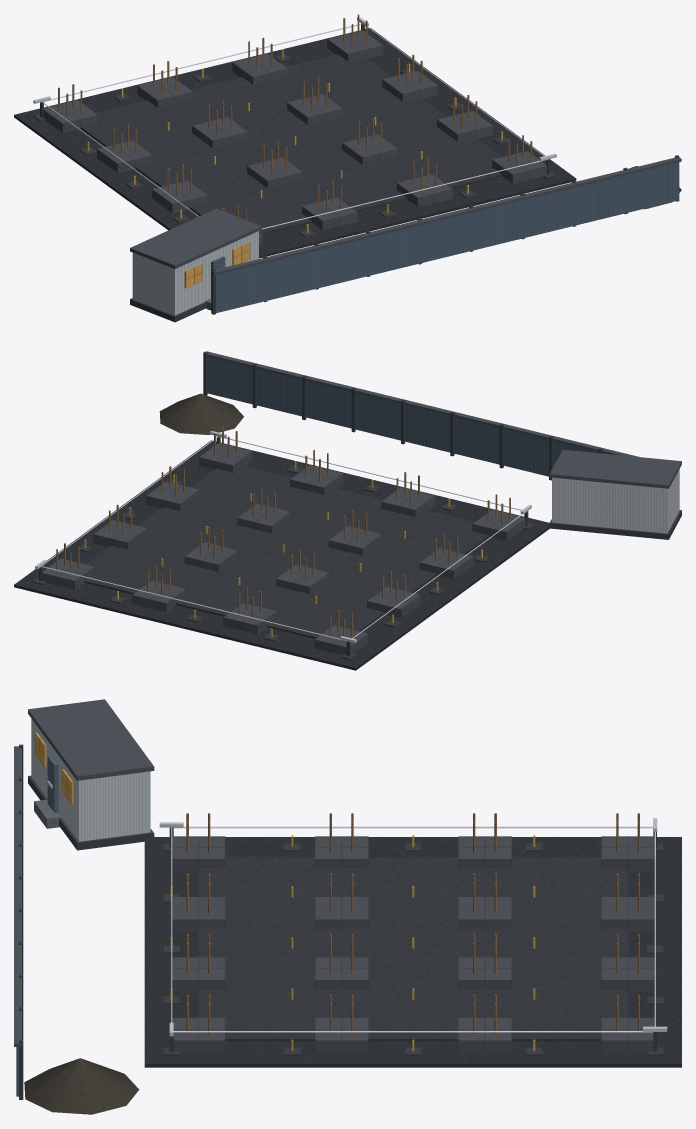
Rendered from trg-4-site.glb.
The picture shows the model from 3 angles, top to bottom: view 1: azimuth 30°, elevation 25°; view 2: azimuth 150°, elevation 25°; view 3: azimuth 270°, elevation 25°; orthographic projection. The views are drawn at different scales.
Bounding box in the file's own units: 30.06 × 3.1 × 24.87.
Materials: 17 (9 with a texture image).
